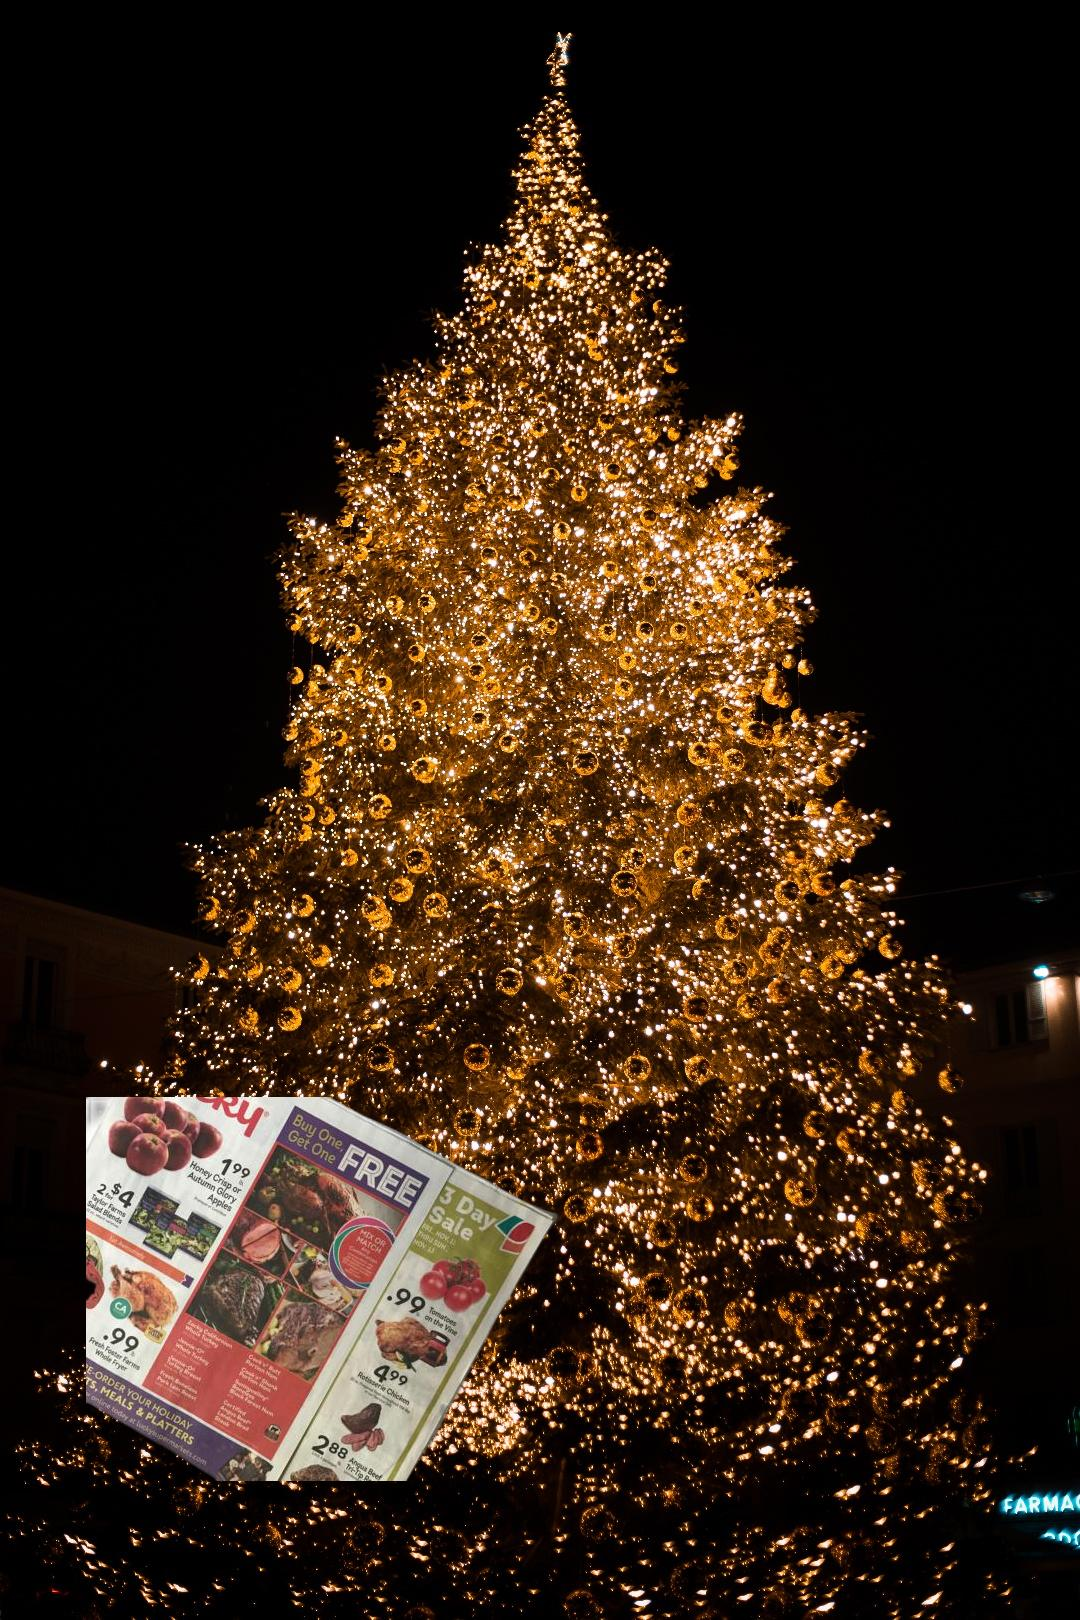paper: (86, 1097, 563, 1481)
